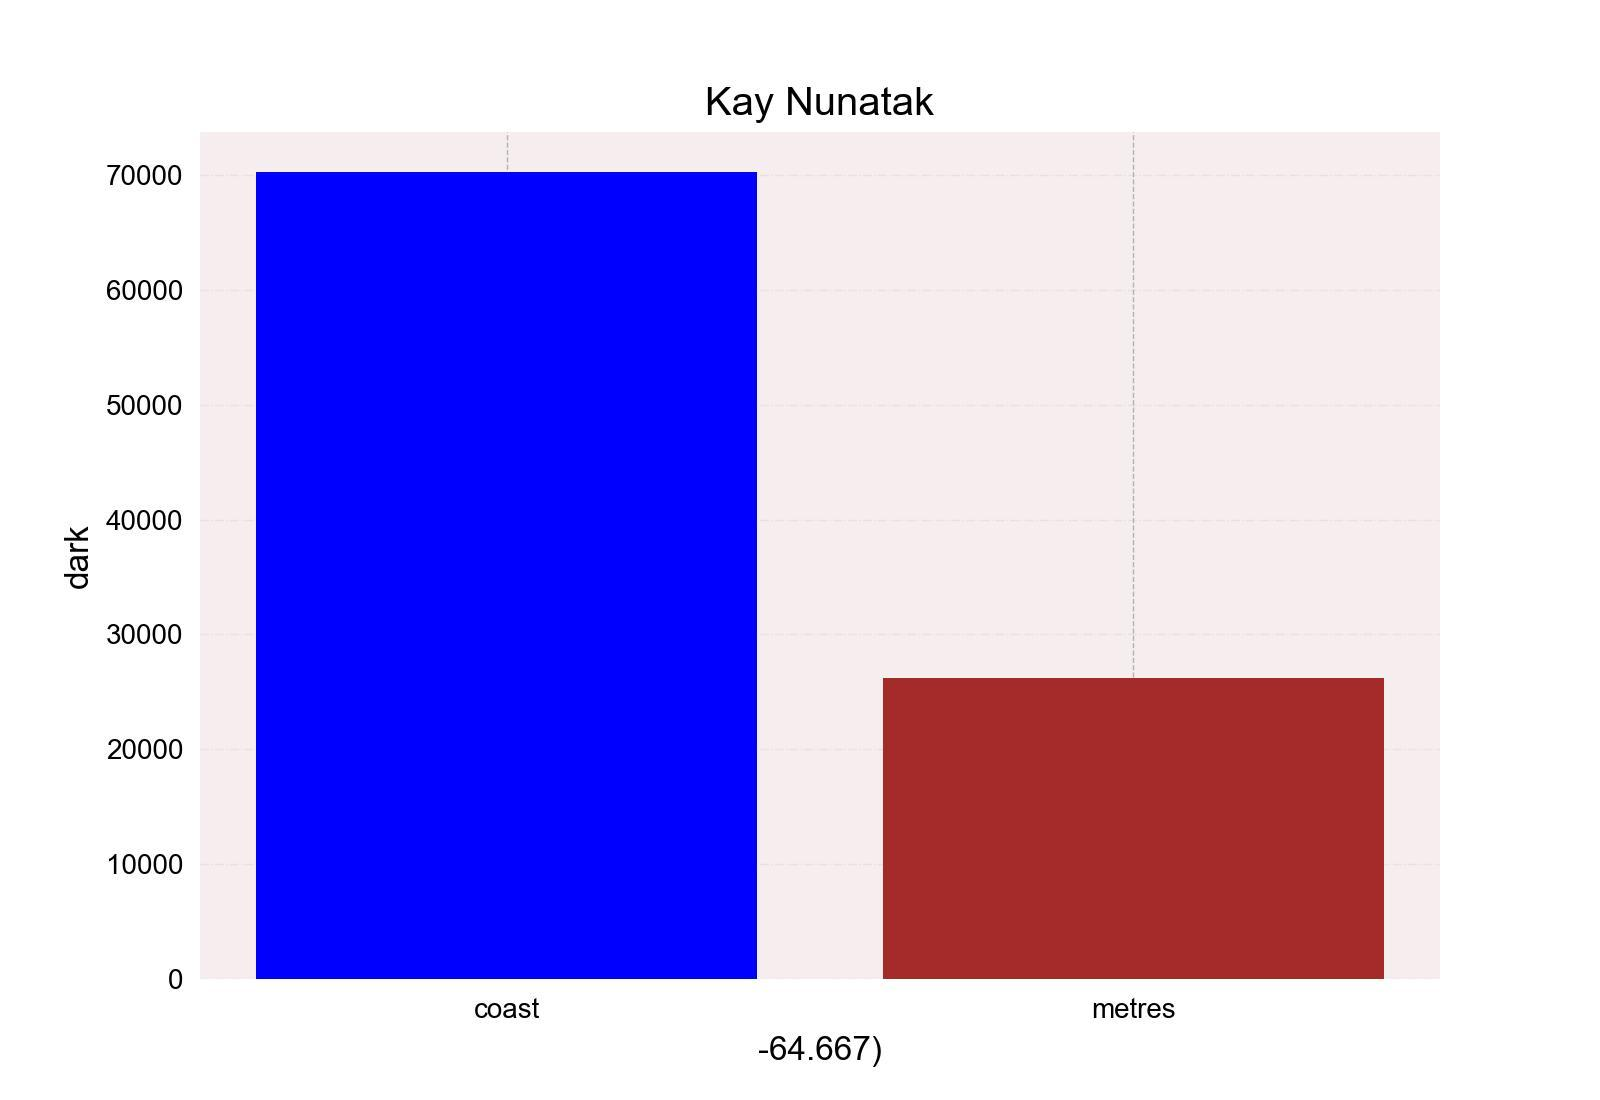axis: (63, 165, 184, 995)
rectangle: (257, 173, 757, 978), (883, 678, 1384, 978)
